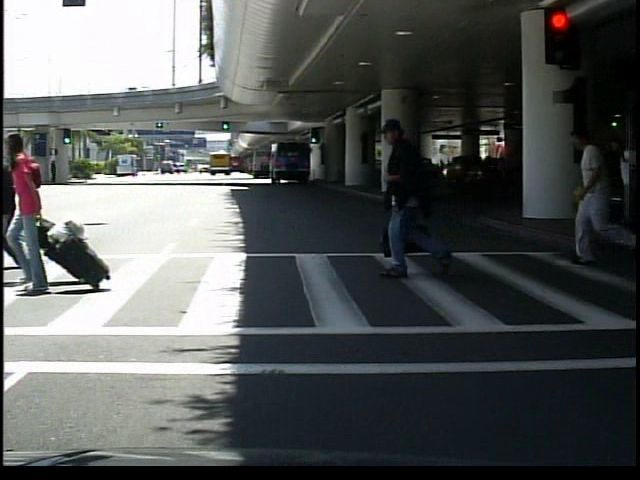person: (364, 113, 460, 281), (569, 113, 627, 269)
